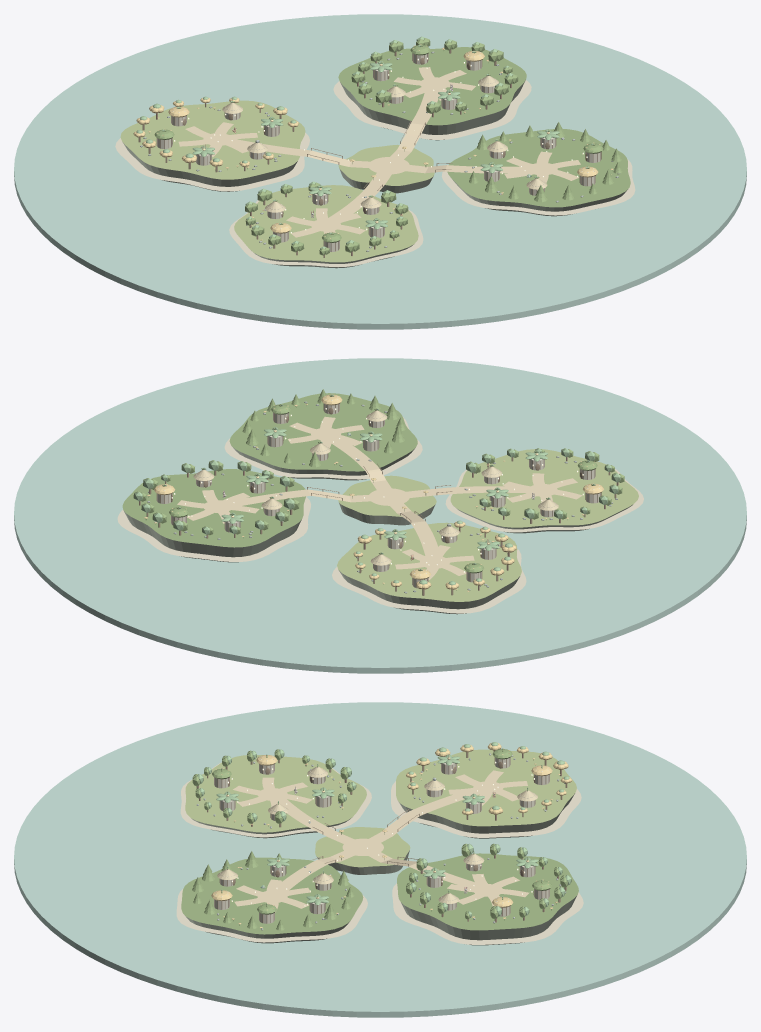
File: grade2-terrain.glb
The picture shows the model from 3 angles, top to bottom: view 1: azimuth 30°, elevation 25°; view 2: azimuth 150°, elevation 25°; view 3: azimuth 270°, elevation 25°; orthographic projection.
Parts seen in each view (by area): view 1: Nature_water, Walk_Nature_grass, Walk_Nature_deep, Walk_Nature_path, Nature_deep, Nature_sand, Nature_soil, Nature_cream, Nature_leaf, Nature_wood, Nature_flower, Nature_reed; view 2: Nature_water, Walk_Nature_grass, Walk_Nature_deep, Walk_Nature_path, Nature_sand, Nature_soil, Nature_leaf, Nature_deep, Nature_cream, Nature_wood, Nature_flower, Nature_reed; view 3: Nature_water, Walk_Nature_grass, Walk_Nature_deep, Walk_Nature_path, Nature_sand, Nature_soil, Nature_deep, Nature_cream, Nature_leaf, Nature_wood, Nature_flower, Nature_reed.
Boxes of the visible parts, x1=… form: Nature_water: x1=14, y1=14, x2=746, y2=329; Walk_Nature_grass: x1=120, y1=100, x2=434, y2=262; Walk_Nature_deep: x1=338, y1=47, x2=630, y2=207; Walk_Nature_path: x1=178, y1=67, x2=580, y2=237; Nature_deep: x1=149, y1=38, x2=622, y2=255; Nature_sand: x1=115, y1=80, x2=635, y2=267; Nature_soil: x1=122, y1=80, x2=627, y2=268; Nature_cream: x1=157, y1=51, x2=600, y2=251; Nature_leaf: x1=136, y1=36, x2=593, y2=249; Nature_wood: x1=138, y1=49, x2=601, y2=257; Nature_flower: x1=133, y1=44, x2=613, y2=240; Nature_reed: x1=222, y1=75, x2=547, y2=212; Nature_water: x1=14, y1=358, x2=746, y2=673; Walk_Nature_grass: x1=337, y1=449, x2=638, y2=601; Walk_Nature_deep: x1=122, y1=393, x2=417, y2=547; Walk_Nature_path: x1=177, y1=416, x2=582, y2=579; Nature_sand: x1=117, y1=417, x2=643, y2=613; Nature_soil: x1=123, y1=446, x2=632, y2=614; Nature_leaf: x1=134, y1=395, x2=620, y2=585; Nature_deep: x1=133, y1=389, x2=624, y2=590; Nature_cream: x1=157, y1=394, x2=600, y2=588; Nature_wood: x1=139, y1=404, x2=618, y2=595; Nature_flower: x1=144, y1=394, x2=603, y2=591; Nature_reed: x1=193, y1=410, x2=558, y2=565; Nature_water: x1=14, y1=702, x2=746, y2=1017; Walk_Nature_grass: x1=185, y1=749, x2=576, y2=867; Walk_Nature_deep: x1=181, y1=853, x2=578, y2=934; Walk_Nature_path: x1=233, y1=770, x2=529, y2=912; Nature_sand: x1=176, y1=762, x2=583, y2=944; Nature_soil: x1=185, y1=793, x2=576, y2=945; Nature_deep: x1=192, y1=748, x2=568, y2=930; Nature_cream: x1=214, y1=756, x2=549, y2=923; Nature_leaf: x1=197, y1=742, x2=571, y2=917; Nature_wood: x1=196, y1=750, x2=567, y2=923; Nature_flower: x1=211, y1=743, x2=572, y2=928; Nature_reed: x1=217, y1=766, x2=537, y2=903.
Size of the model in its own units: 170 by 10.65 by 170.
